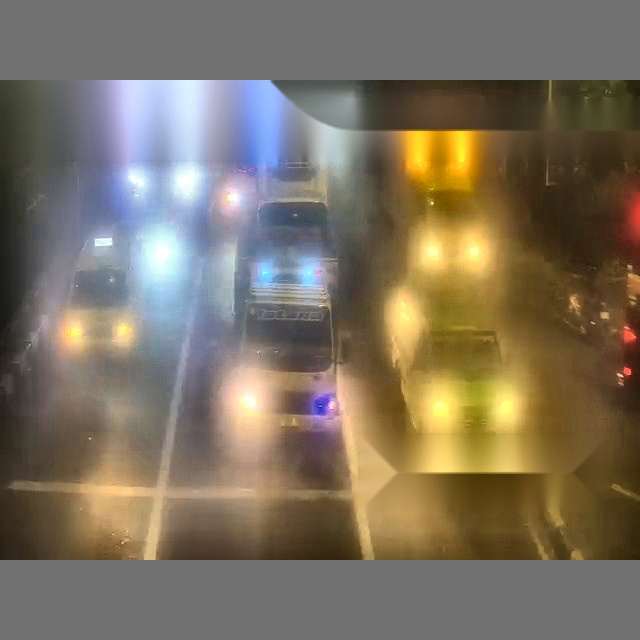Mobil: (251, 197, 338, 306)
